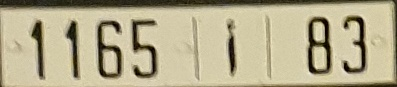1: (62, 19, 83, 80), (29, 18, 47, 80)
3: (340, 13, 369, 75)
5: (129, 18, 159, 80)
6: (96, 18, 124, 79)
8: (305, 14, 334, 75)
a: (222, 16, 240, 78)
